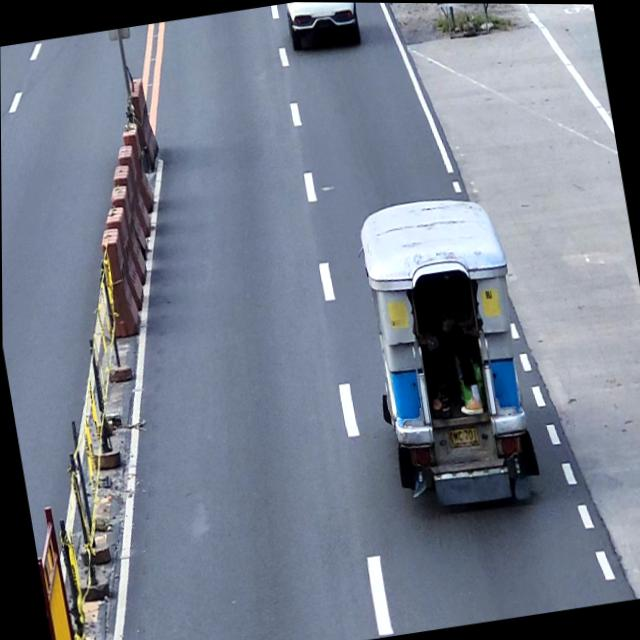Car: (285, 2, 363, 54)
Jeep: (354, 185, 547, 527)
License-Plate: (445, 424, 482, 451)
